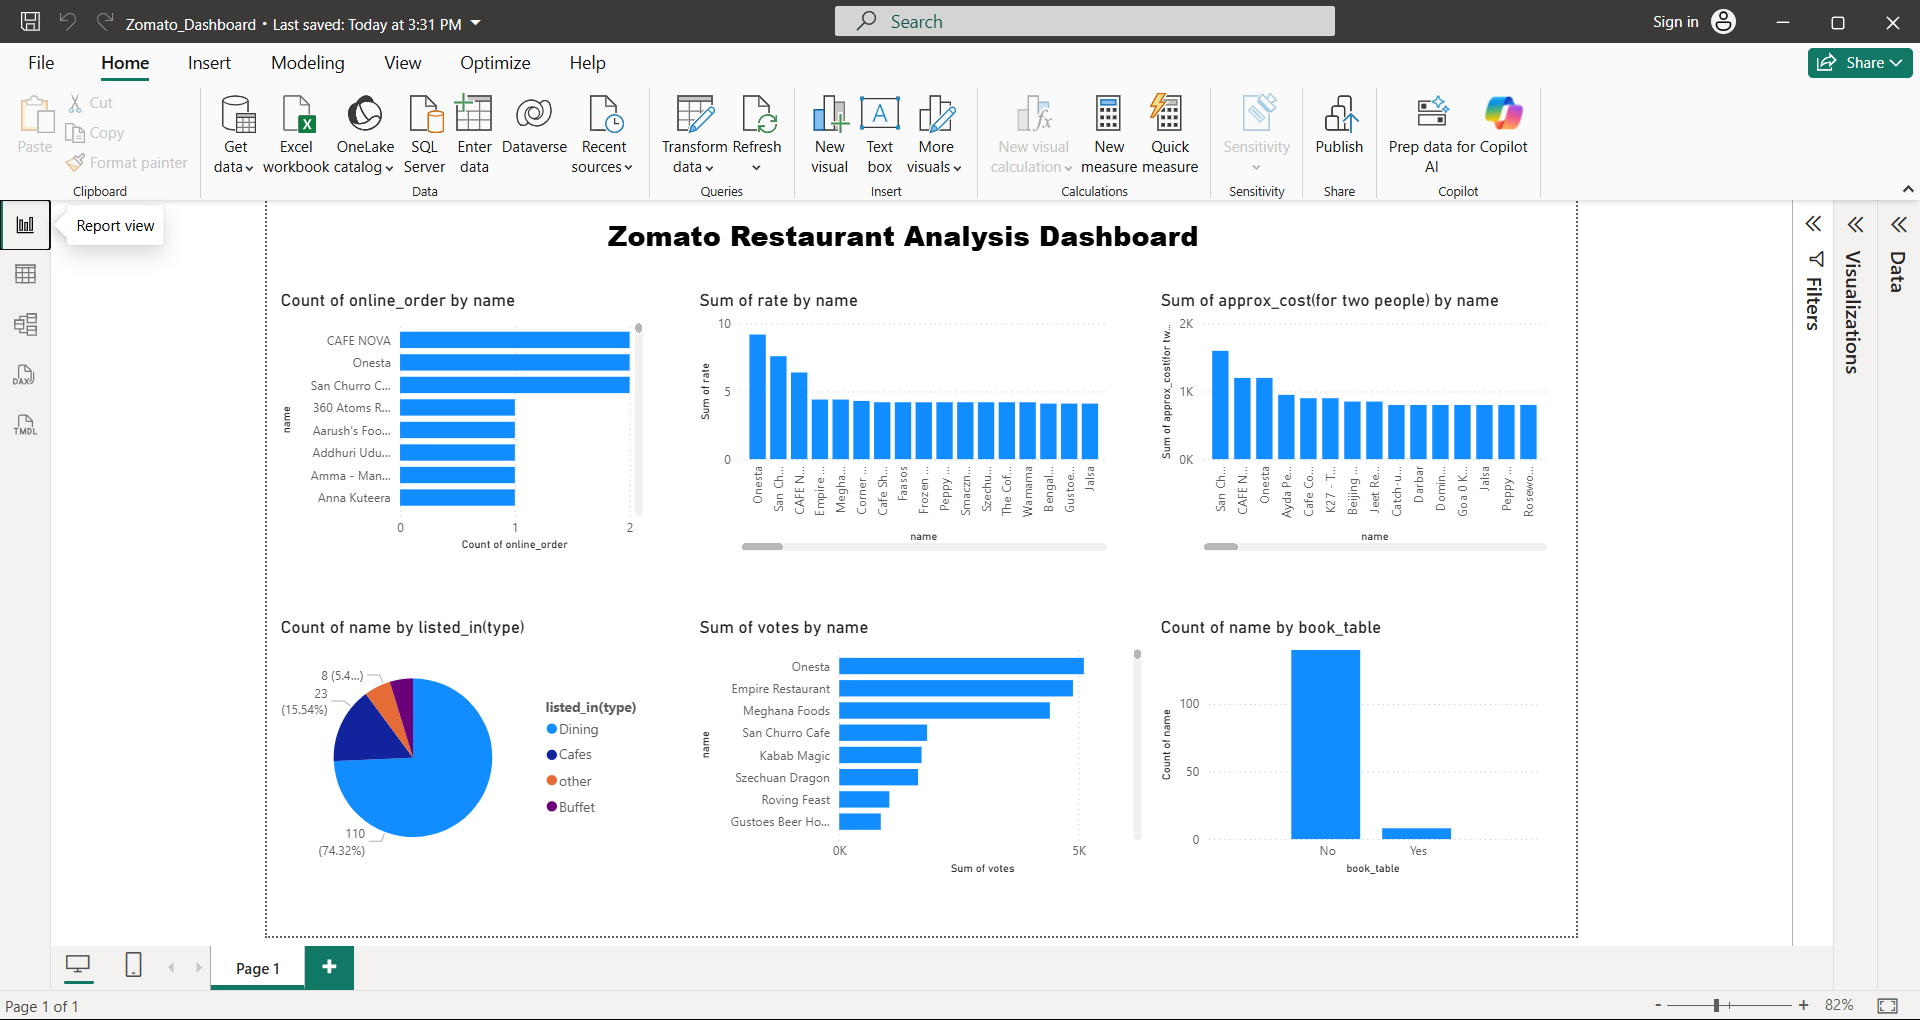

The page's visual inventory and layout, read from the dashboard file:
{"tool":"powerbi","page":{"name":"Page 1","canvas":[1280,720],"ordinal":0},"visuals":[{"type":"clusteredBarChart","fields":{"Y":["CountNonNull(Zomato-data-.online_order)"],"Category":["Zomato-data-.name"]},"box":[8.6,88,364.4,260.5],"z":0},{"type":"clusteredColumnChart","fields":{"Y":["Sum(Zomato-data-.rate)"],"Category":["Zomato-data-.name"]},"box":[418.2,88,408.4,260.5],"z":1000},{"type":"pieChart","fields":{"Category":["Zomato-data-.listed_in(type)"],"Y":["CountNonNull(Zomato-data-.name)"]},"box":[8.6,407.2,373,258],"z":2000},{"type":"clusteredBarChart","fields":{"Category":["Zomato-data-.name"],"Y":["Sum(Zomato-data-.votes)"]},"box":[418.2,407.2,442.7,258],"z":3000},{"type":"clusteredColumnChart","fields":{"Y":["Sum(Zomato-data-.approx_cost(for two people))"],"Category":["Zomato-data-.name"]},"box":[869.4,88,387.6,260.5],"z":4000},{"type":"clusteredColumnChart","fields":{"Category":["Zomato-data-.book_table"],"Y":["CountNonNull(Zomato-data-.name)"]},"box":[869.4,407.2,377.9,258],"z":5000},{"type":"textbox","box":[100.3,11,1044.3,53.8],"z":6000}]}

Visuals, with their boxes on the page's 1280x720 design canvas (x1, y1, x2, y2). These are canvas units, not pixel positions in the 1920x1020 screenshot, which may show the page scaled, cropped or inside an application window:
clusteredBarChart - CountNonNull(Zomato-data-.online_order) x Zomato-data-.name: Rect(9, 88, 373, 348)
clusteredColumnChart - Sum(Zomato-data-.rate) x Zomato-data-.name: Rect(418, 88, 827, 348)
pieChart - Zomato-data-.listed_in(type) x CountNonNull(Zomato-data-.name): Rect(9, 407, 382, 665)
clusteredBarChart - Zomato-data-.name x Sum(Zomato-data-.votes): Rect(418, 407, 861, 665)
clusteredColumnChart - Sum(Zomato-data-.approx_cost(for two people)) x Zomato-data-.name: Rect(869, 88, 1257, 348)
clusteredColumnChart - Zomato-data-.book_table x CountNonNull(Zomato-data-.name): Rect(869, 407, 1247, 665)
textbox: Rect(100, 11, 1145, 65)
